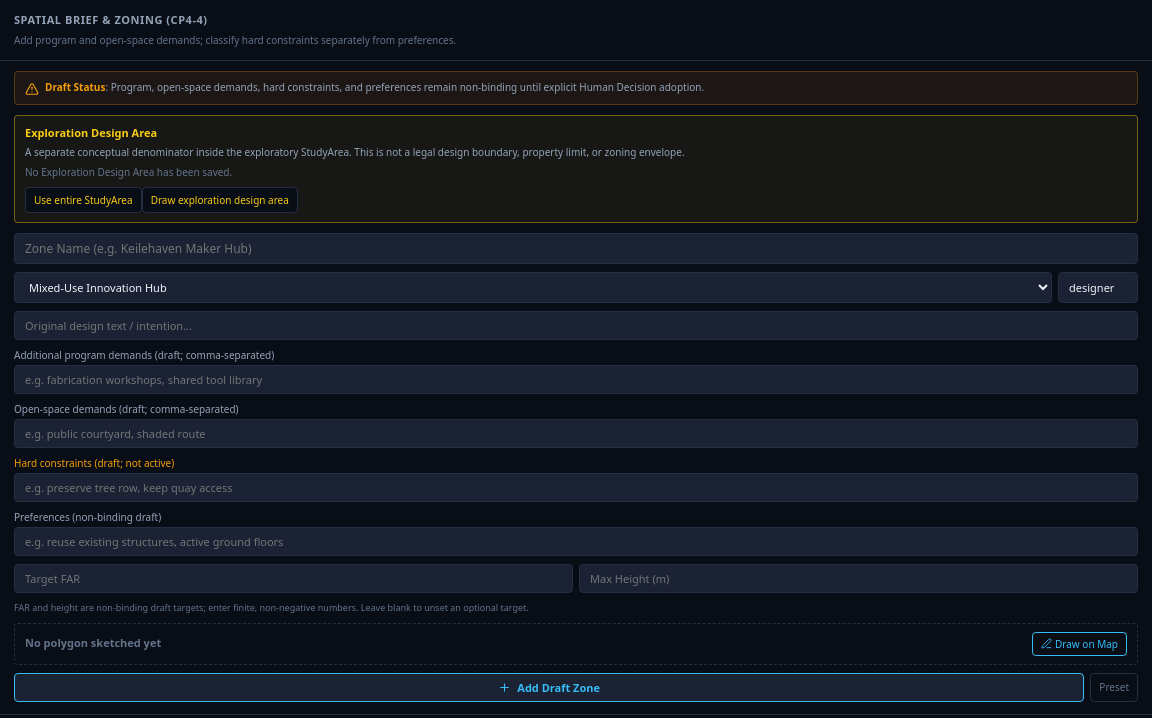
Test case: SidebarBrief StudyArea scope › rejects the preset before creating a zone when it is outside the active StudyArea
This screenshot has width=1152, height=718.
Step 1. Click the button "Preset" → coordinates (1114, 687), box [1090,672,1138,702]
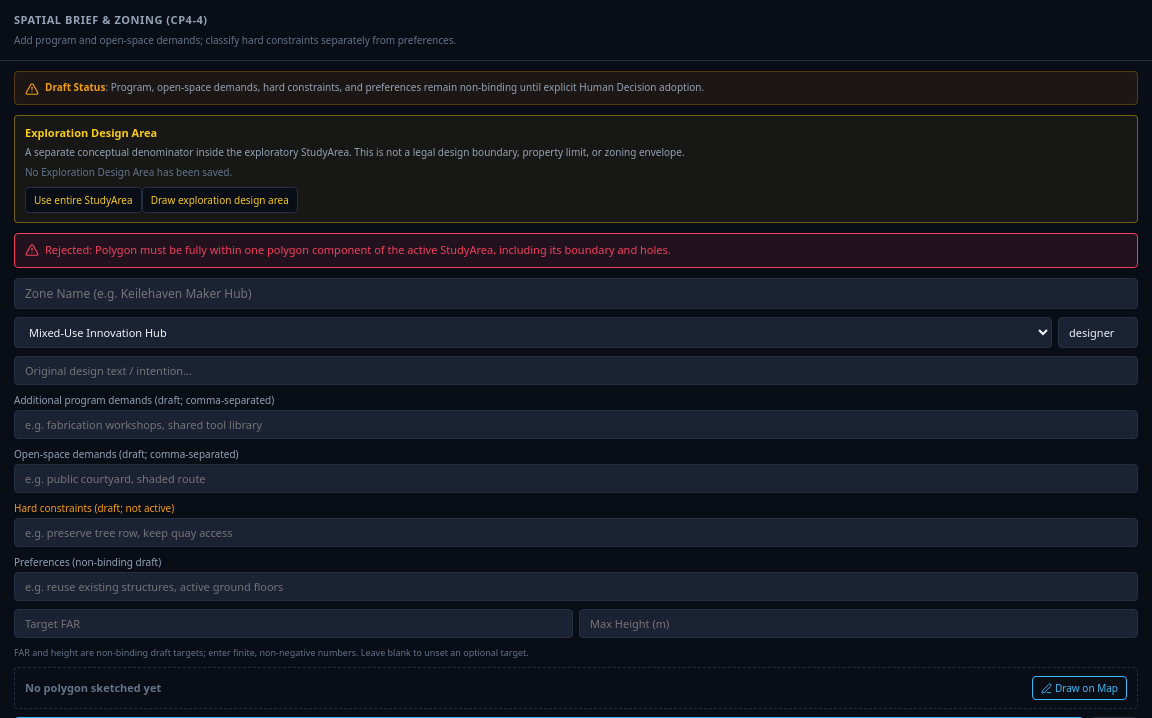
Result: the text "fully within one polygon component of the active StudyArea" is shown at [45,242,671,257]
